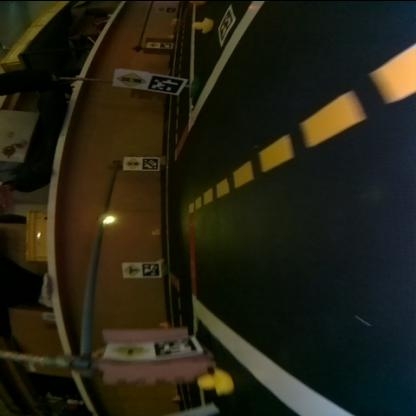Duckie: (197, 368, 231, 392), (192, 16, 214, 32), (151, 228, 159, 234)
Intersection sign: (122, 262, 140, 276)
QR code: (152, 335, 197, 357), (216, 5, 233, 42), (146, 74, 182, 90), (140, 262, 160, 276), (142, 156, 158, 167)
Signal sign: (115, 70, 142, 86), (123, 156, 139, 168)
Traffic light: (101, 214, 115, 223)
